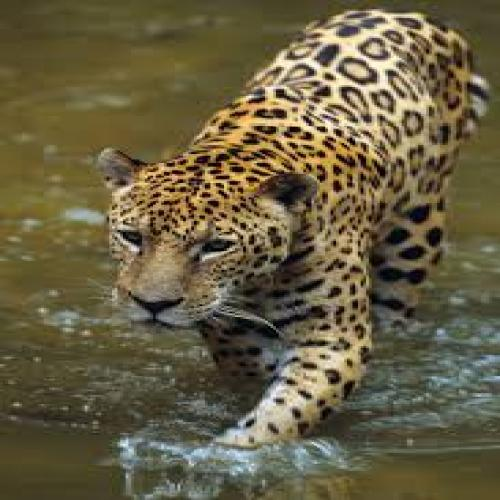jaguar_not-endangered: (100, 11, 487, 443)
